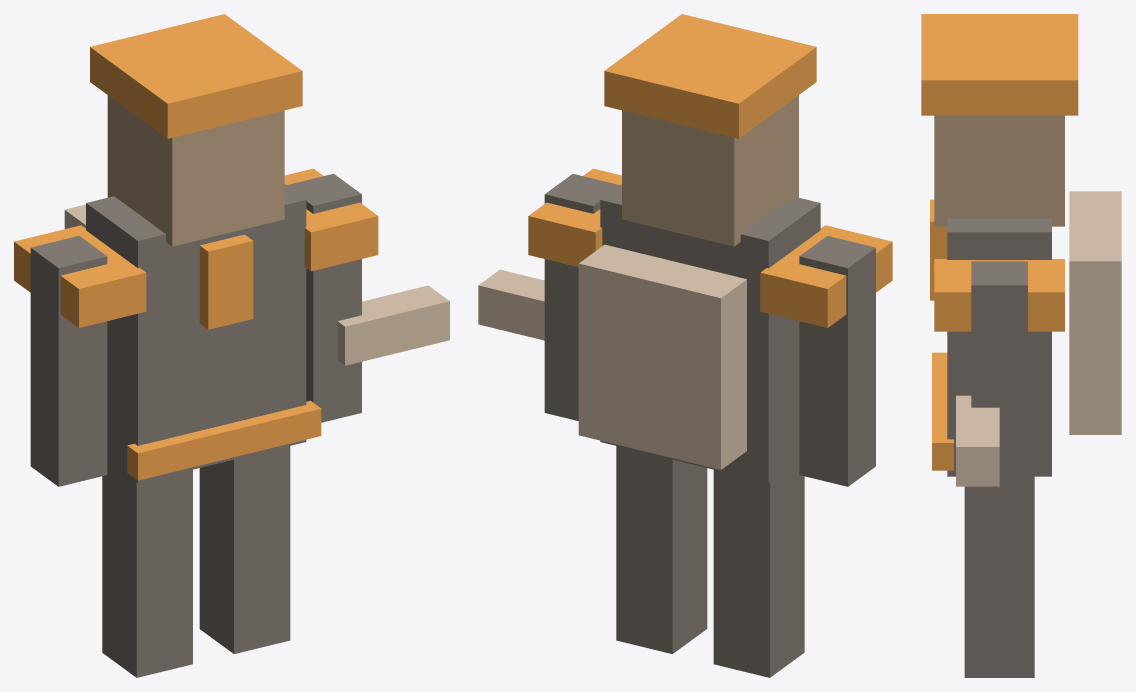
Rendered from 11_elo_ashvein_responder_under_sonic.glb.
3 renders of one model, left to right at view 1: azimuth 30°, elevation 25°; view 2: azimuth 150°, elevation 25°; view 3: azimuth 270°, elevation 25°, orthographic.
Parts seen in each view (by area): view 1: Elo Ashvein, Responder under Sonic; view 2: Elo Ashvein, Responder under Sonic; view 3: Elo Ashvein, Responder under Sonic.
Part boxes in pixels (<box>): Elo Ashvein, Responder under Sonic: <box>14,14,449,677</box>; Elo Ashvein, Responder under Sonic: <box>478,14,892,677</box>; Elo Ashvein, Responder under Sonic: <box>921,14,1121,677</box>.
Bounding box in the file's own units: 1.12 × 1.65 × 0.5046.
